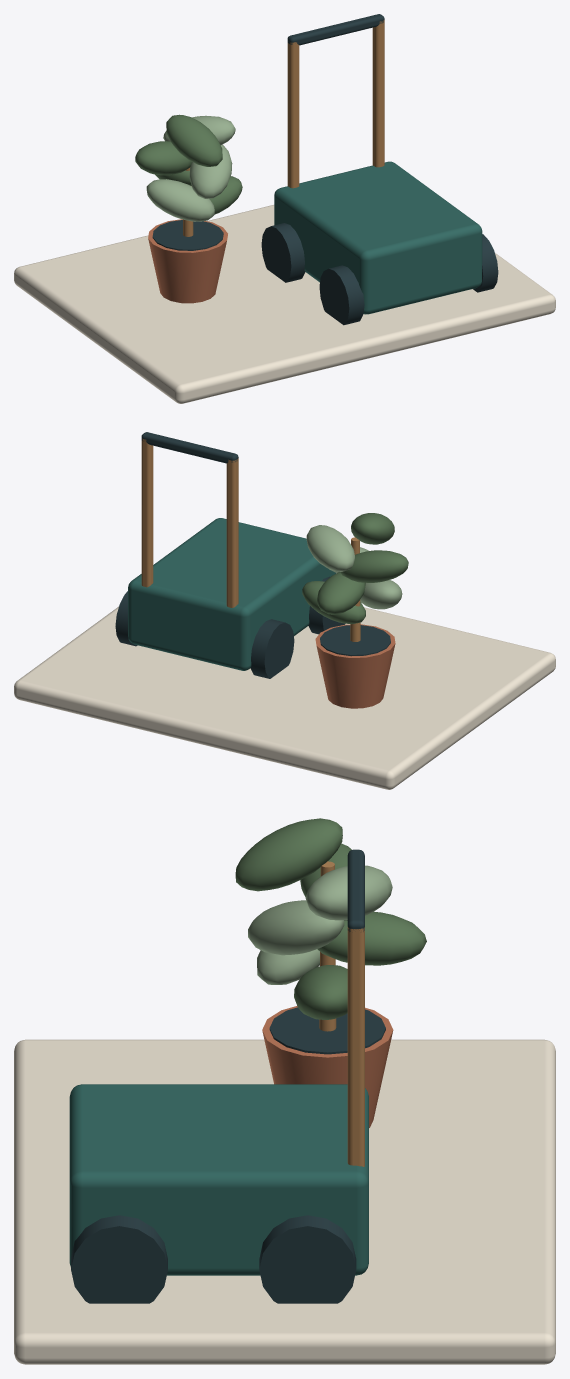
The model's file is work-garden.glb.
3 views of the same model, one above another, from view 1: azimuth 30°, elevation 25°; view 2: azimuth 150°, elevation 25°; view 3: azimuth 270°, elevation 25° (orthographic). The views are drawn at different scales.
Parts seen in each view (by area): view 1: display-plinth, mower-body, leaf (×6), mower-wheel (×3), mower-handle (×2), ceramic-pot, soil, grip; view 2: display-plinth, mower-body, leaf (×6), mower-handle (×2), ceramic-pot, mower-wheel (×3), soil, grip; view 3: display-plinth, mower-body, leaf (×6), mower-wheel (×2), ceramic-pot, mower-handle, soil, grip.
Boxes of the visible parts, <box> form: display-plinth: <box>14,205,555,403</box>; mower-body: <box>274,161,482,314</box>; leaf (×6): <box>135,114,242,221</box>; mower-wheel (×3): <box>261,223,498,325</box>; mower-handle (×2): <box>287,20,384,188</box>; ceramic-pot: <box>148,219,227,303</box>; soil: <box>152,220,223,250</box>; grip: <box>287,14,384,45</box>; display-plinth: <box>14,606,555,789</box>; mower-body: <box>128,518,336,670</box>; leaf (×6): <box>302,513,408,624</box>; mower-handle (×2): <box>141,438,238,607</box>; ceramic-pot: <box>315,624,395,708</box>; mower-wheel (×3): <box>115,576,345,678</box>; soil: <box>320,625,390,656</box>; grip: <box>141,432,238,463</box>; display-plinth: <box>14,1039,555,1364</box>; mower-body: <box>69,1084,368,1275</box>; leaf (×6): <box>235,818,426,1019</box>; mower-wheel (×2): <box>71,1215,356,1303</box>; ceramic-pot: <box>262,1006,393,1127</box>; mower-handle: <box>347,927,364,1166</box>; soil: <box>269,1007,385,1054</box>; grip: <box>347,849,364,931</box>.
Bounding box in the file's own units: 2.5 × 1.51 × 1.9.
